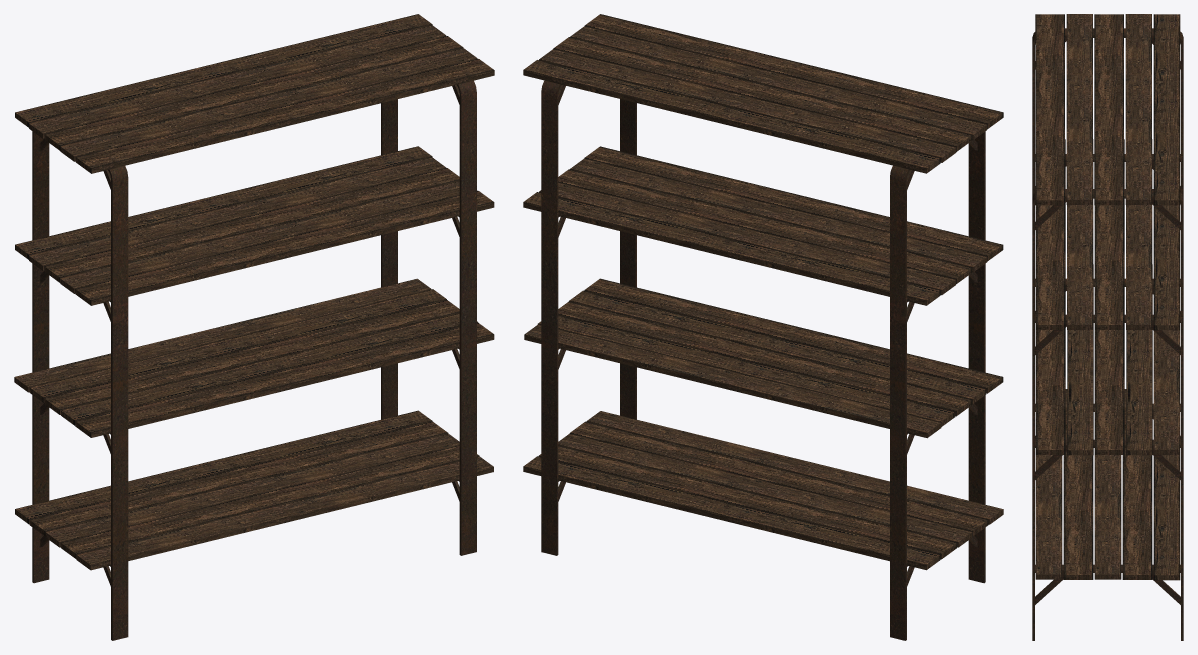
Rendered from shelf_mx_1.glb.
3 renders of one model, left to right at view 1: azimuth 30°, elevation 25°; view 2: azimuth 150°, elevation 25°; view 3: azimuth 270°, elevation 25°, orthographic. The views are drawn at different scales.
Visible parts, largest first — view 1: shelf_mx_1; view 2: shelf_mx_1; view 3: shelf_mx_1.
Boxes of the visible parts, x1,y1,x2,y2 form: shelf_mx_1: (14, 14, 494, 640); shelf_mx_1: (523, 14, 1003, 640); shelf_mx_1: (1032, 14, 1183, 640).
Size of the model in its own units: 1.6 by 1.8 by 0.55.
2 materials, 2 textured.
